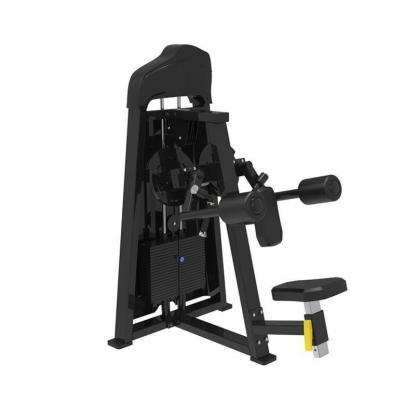lateral raises machine: (107, 43, 348, 367)
